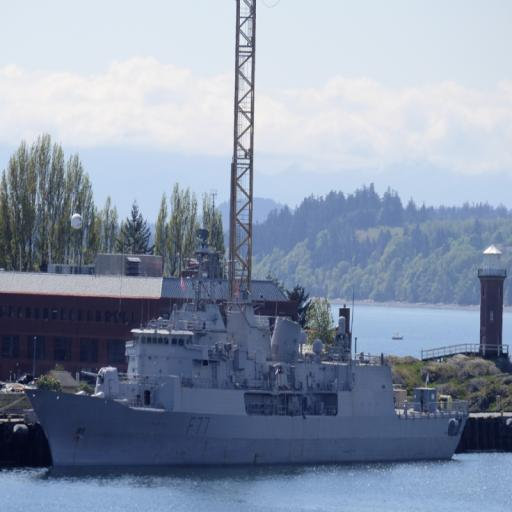Fragata: (29, 230, 474, 480)
